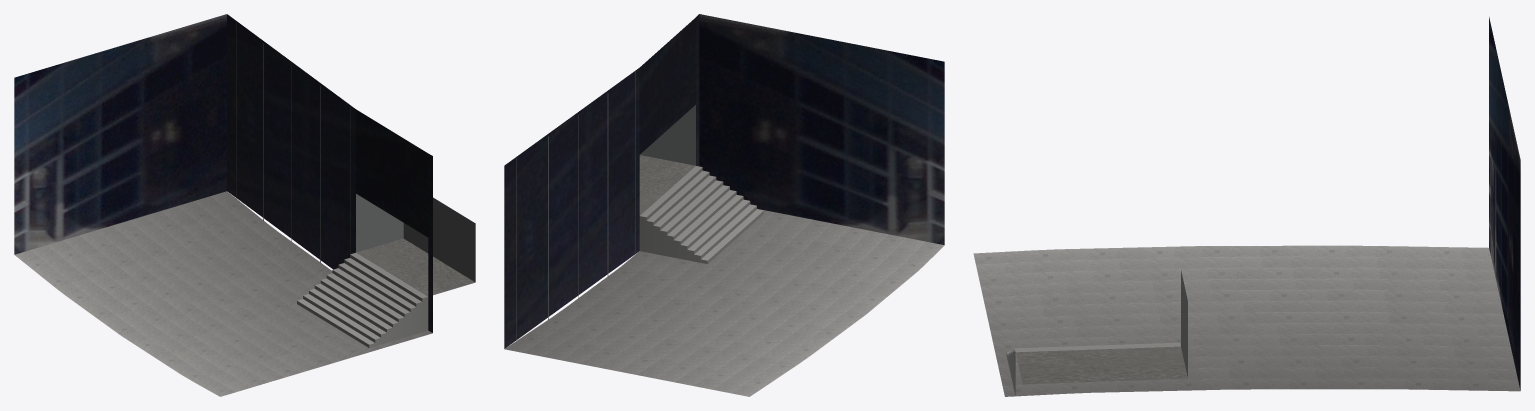
3 renders of one model, left to right at view 1: azimuth 30°, elevation 25°; view 2: azimuth 150°, elevation 25°; view 3: azimuth 270°, elevation 25°, orthographic. The views are drawn at different scales.
Visible parts, largest first — view 1: geometry_0; view 2: geometry_0; view 3: geometry_0.
Part boxes in pixels (bbox=[...]): geometry_0: bbox=[14, 14, 475, 396]; geometry_0: bbox=[504, 14, 944, 396]; geometry_0: bbox=[973, 17, 1520, 396].
Bounding box in the file's own units: 14.2 × 8.4 × 17.97.
1 material, 1 textured.
